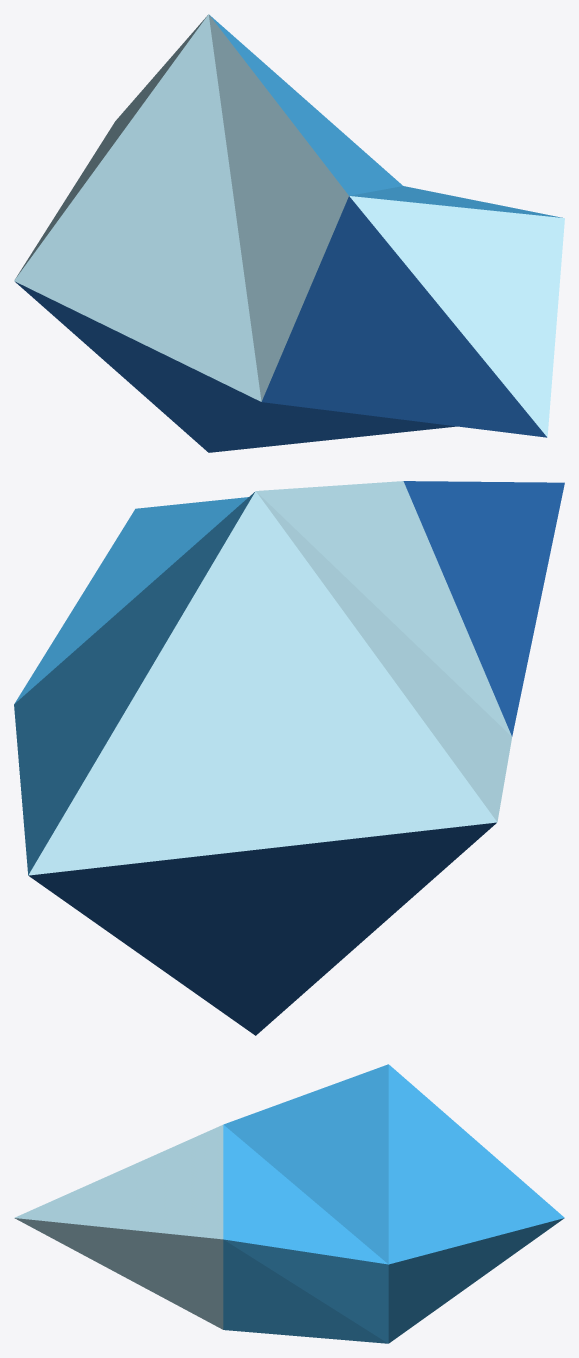
File: crystal_shard_chip.obj
3 views of the same model, one above another, from view 1: azimuth 30°, elevation 25°; view 2: azimuth 150°, elevation 25°; view 3: azimuth 270°, elevation 25° (orthographic). The views are drawn at different scales.
Parts seen in each view (by area): view 1: 00_crystal_shard_chip; view 2: 00_crystal_shard_chip; view 3: 00_crystal_shard_chip.
Part boxes in pixels (left/top/right/bottom): 00_crystal_shard_chip: left=14, top=14, right=564, bottom=452; 00_crystal_shard_chip: left=14, top=481, right=564, bottom=1035; 00_crystal_shard_chip: left=14, top=1064, right=564, bottom=1343.
Bounding box in the file's own units: 0.0281 × 0.028 × 0.05.
